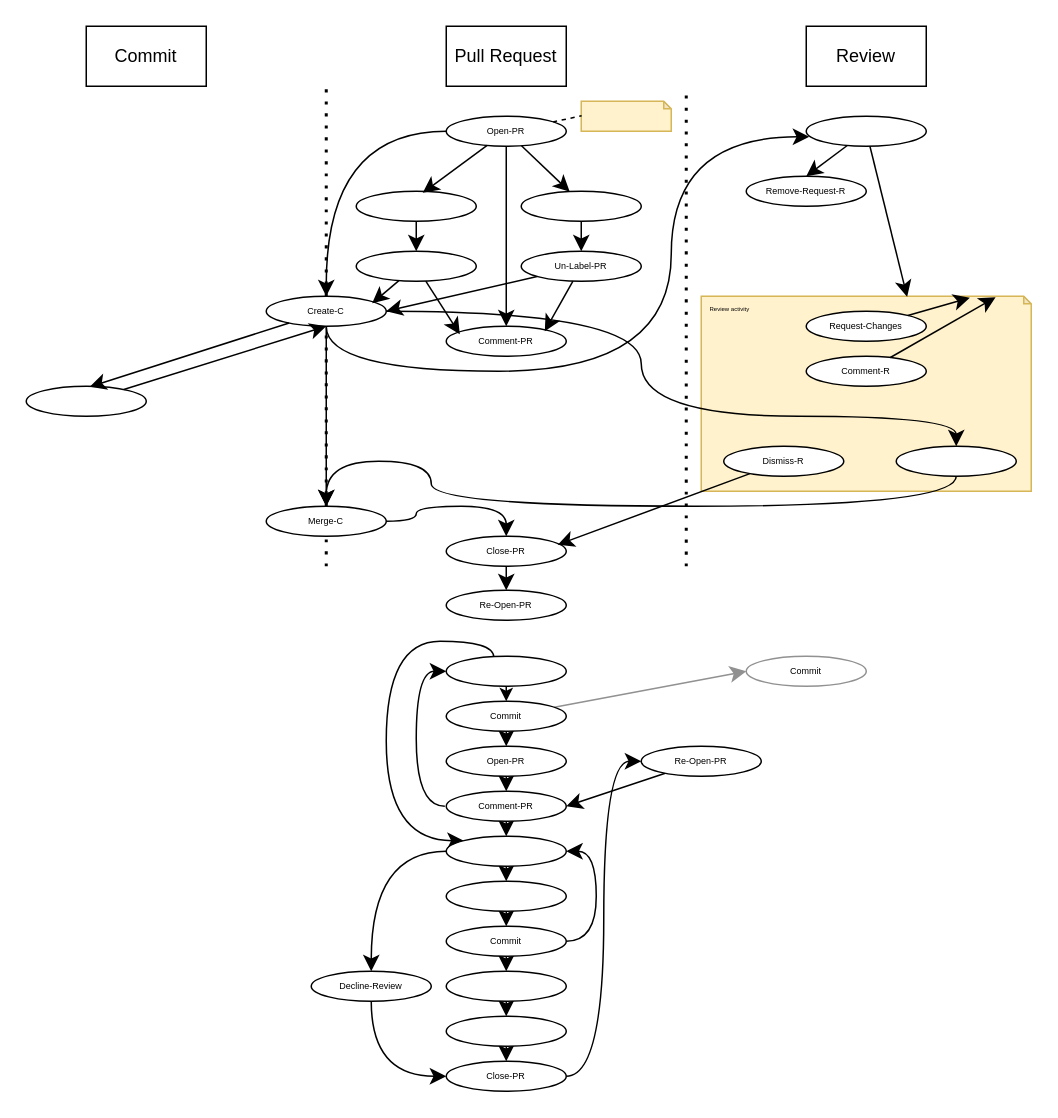
Image size: 1058x1118. Some labels were removed from this diagram. The centre of each missing label's shape, as x and y in pixels:
Approve-R: (x=955, y=460)
Approve-Review: (x=505, y=985)
Assign-PR: (x=415, y=205)
Change-File: (x=505, y=670)
Comment-Review: (x=505, y=895)
Create PR Object with state open: (x=625, y=115)
Label-PR: (x=580, y=205)
Merge-PR: (x=505, y=1030)
Request-R: (x=865, y=130)
Revert-C: (x=85, y=400)
Review-Request: (x=505, y=850)
Un-Assign-PR: (x=415, y=265)
